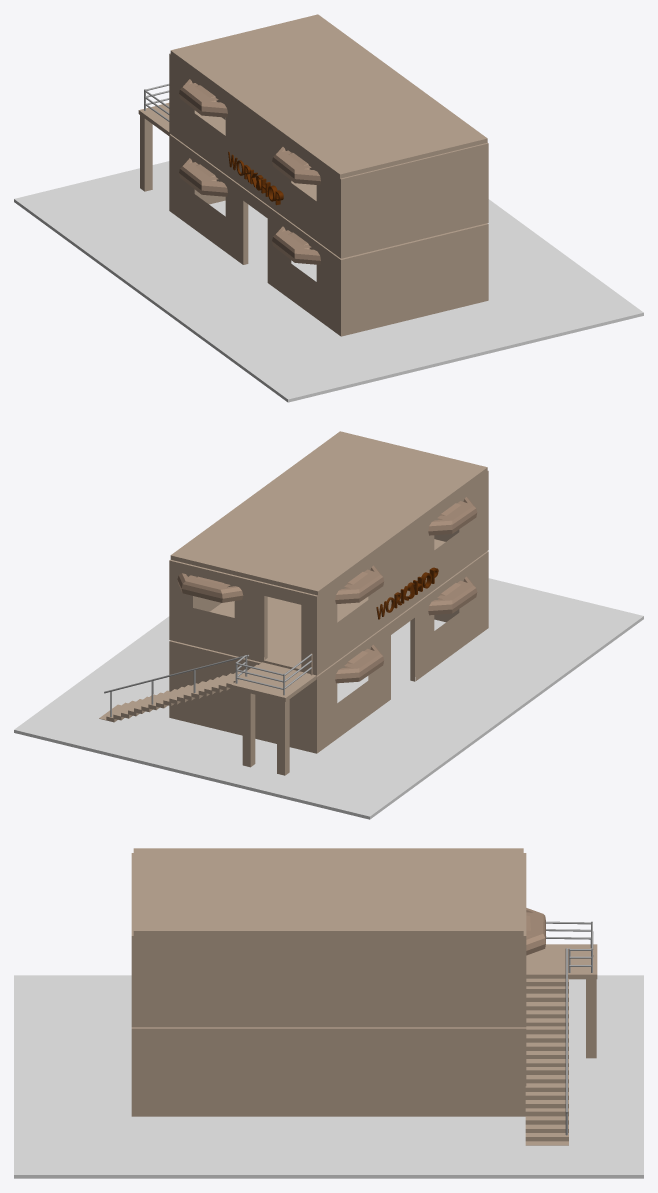
Rendered from JahazBuildingUnity.fbx.
The picture shows the model from 3 angles, top to bottom: view 1: azimuth 30°, elevation 25°; view 2: azimuth 150°, elevation 25°; view 3: azimuth 270°, elevation 25°; orthographic projection. The views are drawn at different scales.
Visible parts, largest first — view 1: pCube28, pCube3, pCube2, pCube1, pTorus1, pTorus2, pTorus3, pTorus4, pCube29, typeMesh1, pCube25; view 2: pCube28, pCube3, pCube2, pCube1, pCube25, pTorus5, pTorus3, pTorus1, pTorus2, pTorus4, pCube27, pCube29 (+1 smaller); view 3: pCube28, pCube2, pCube1, pCube3, pCube25, pCube27, pTorus5, pCylinder17.
Boxes of the visible parts, bbox=[...] form: pCube28: bbox=[14, 161, 643, 402]; pCube3: bbox=[170, 14, 487, 178]; pCube2: bbox=[169, 53, 488, 258]; pCube1: bbox=[169, 134, 488, 336]; pTorus1: bbox=[179, 158, 227, 196]; pTorus2: bbox=[272, 226, 320, 264]; pTorus3: bbox=[272, 146, 320, 185]; pTorus4: bbox=[179, 79, 227, 117]; pCube29: bbox=[140, 115, 152, 191]; typeMesh1: bbox=[228, 151, 283, 205]; pCube25: bbox=[138, 103, 221, 135]; pCube28: bbox=[14, 578, 643, 819]; pCube3: bbox=[170, 431, 487, 595]; pCube2: bbox=[169, 470, 488, 675]; pCube1: bbox=[169, 551, 488, 753]; pCube25: bbox=[231, 662, 316, 701]; pTorus5: bbox=[177, 573, 243, 602]; pTorus3: bbox=[428, 497, 477, 535]; pTorus1: bbox=[335, 644, 384, 683]; pTorus2: bbox=[428, 576, 477, 615]; pTorus4: bbox=[335, 565, 384, 604]; pCube27: bbox=[242, 691, 255, 767]; pCube29: bbox=[277, 699, 289, 775]; pCube28: bbox=[14, 975, 643, 1178]; pCube2: bbox=[131, 853, 526, 1027]; pCube1: bbox=[131, 1027, 526, 1116]; pCube3: bbox=[133, 848, 523, 935]; pCube25: bbox=[526, 944, 597, 979]; pCube27: bbox=[586, 979, 596, 1058]; pTorus5: bbox=[526, 908, 545, 955]; pCylinder17: bbox=[565, 948, 567, 1113].
Bounding box in the file's own units: 44.38 × 19.68 × 59.19.
